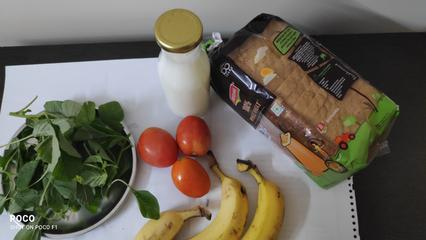banana: (210, 170, 273, 234), (141, 202, 203, 240)
bread: (211, 4, 396, 179)
milk: (152, 7, 216, 115)
spinach: (13, 112, 113, 217)
tomato: (136, 124, 218, 198)
